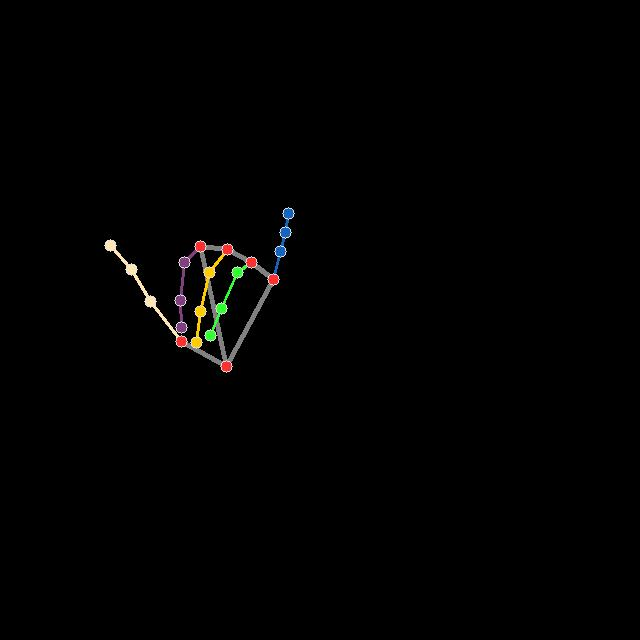skr: (102, 205, 295, 373)
